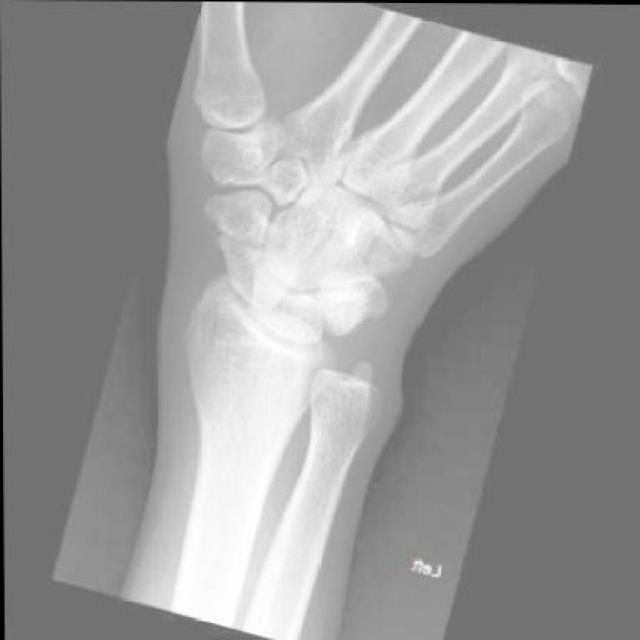Fracture: (209, 203, 277, 262)
